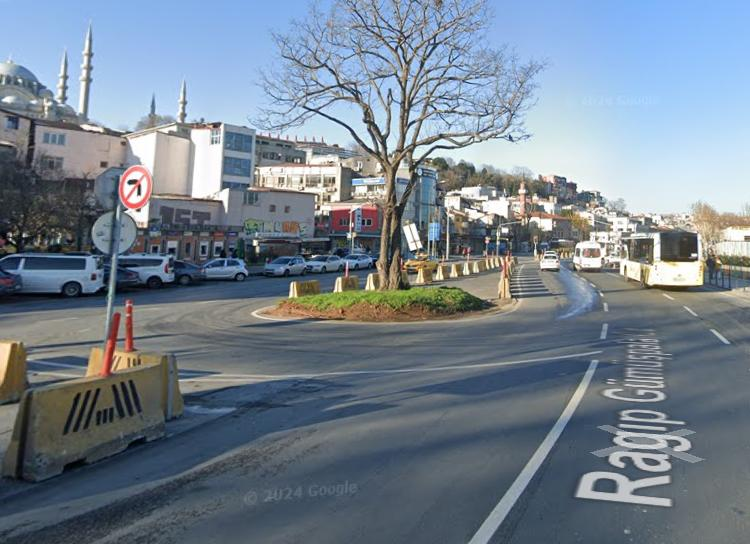leftturnsareforbidden: (119, 165, 154, 206)
